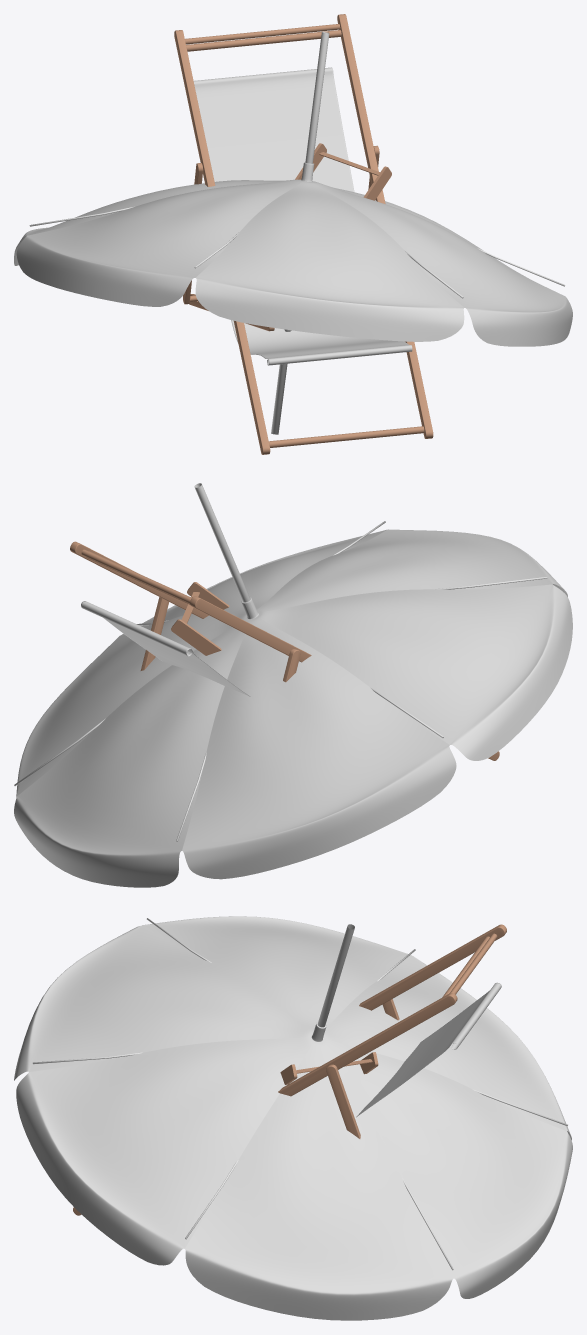
Rendered from beach-chair.glb.
3 views of the same model, one above another, from view 1: azimuth 30°, elevation 25°; view 2: azimuth 150°, elevation 25°; view 3: azimuth 270°, elevation 25° (orthographic). The views are drawn at different scales.
Parts seen in each view (by area): view 1: Circle.002, Plane.010, Plane.008, Cylinder.002, Plane.005; view 2: Circle.002, Plane.008, Plane.010, Cylinder.002, Plane.005; view 3: Circle.002, Plane.008, Plane.010, Cylinder.002, Plane.005.
Boxes of the visible parts, left/top/right/bottom form: Circle.002: left=14, top=162, right=572, bottom=346; Plane.010: left=193, top=67, right=412, bottom=365; Plane.008: left=174, top=14, right=433, bottom=454; Cylinder.002: left=29, top=32, right=565, bottom=434; Plane.005: left=295, top=143, right=391, bottom=200; Circle.002: left=14, top=529, right=572, bottom=887; Plane.008: left=70, top=541, right=499, bottom=760; Plane.010: left=81, top=601, right=250, bottom=696; Cylinder.002: left=14, top=483, right=547, bottom=841; Plane.005: left=171, top=582, right=229, bottom=655; Circle.002: left=14, top=916, right=572, bottom=1320; Plane.008: left=73, top=924, right=506, bottom=1215; Plane.010: left=356, top=982, right=501, bottom=1117; Cylinder.002: left=32, top=918, right=567, bottom=1270; Plane.005: left=280, top=1052, right=378, bottom=1084.
Size of the model in its own units: 67278 by 47858 by 69033.
